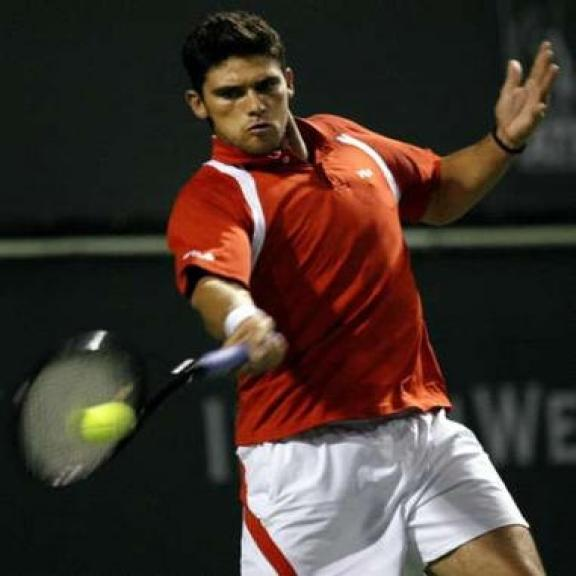face: (184, 50, 296, 158)
